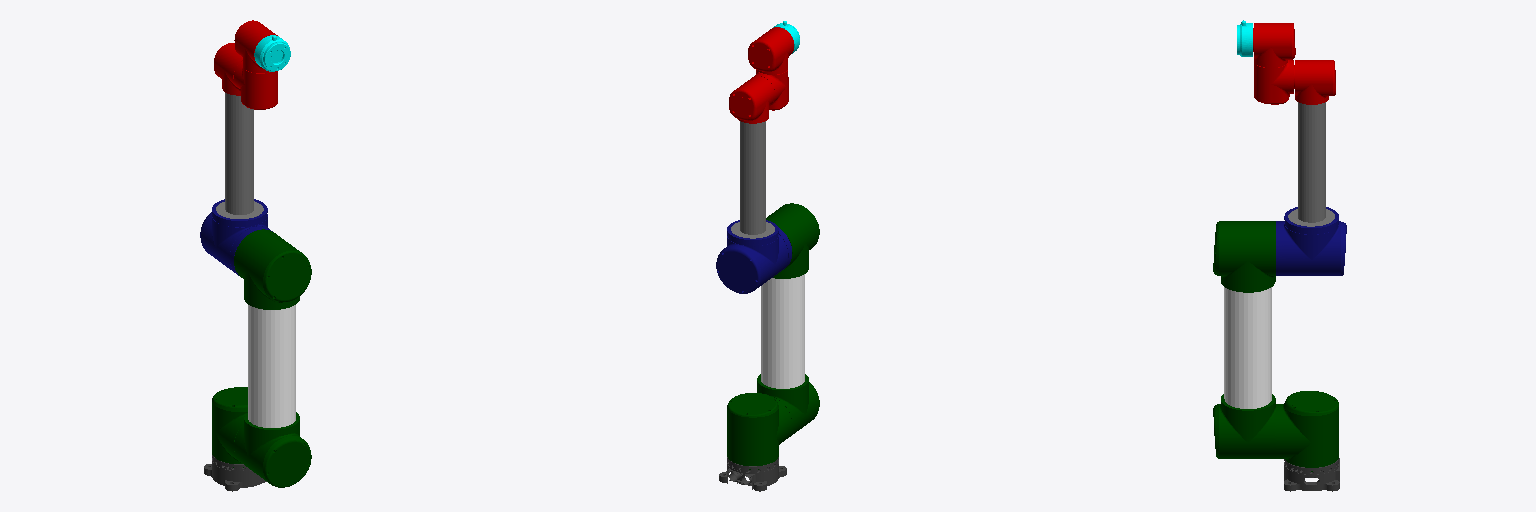
robot.urdf — Coint_5r2:
<?xml version="1.0"?>
<robot name="Coint_5r2">

<link name="world"/>

<joint name="fix_to_world" type="fixed">
    <parent link="world"/>
    <child link="base_link"/>
    <origin xyz="0 0 0" rpy="0 0 0"/>
</joint>


  <link name="base_link">
    <visual>
      <origin xyz="0 0 0" rpy="0 0 0" />
      <geometry>
       <mesh filename="package://robot_description/meshes/e110T_Base.stl" scale="0.001 0.001 0.001" />
      </geometry>
      <material name="green">
        <color rgba="0.3 0.3 0.3 1" />
      </material>
    </visual>
    <collision>
      <origin xyz="0 0 0" rpy="0 0 0" />
      <geometry>
       <mesh filename="package://robot_description/meshes/e110T_Base.stl" scale="0.001 0.001 0.001" />
      </geometry>
    </collision>
    <inertial>
        <origin xyz="0 0 0" rpy="0 0 0"/>
        <mass value="1.0"/> <inertia 
            ixx="0.01" ixy="0.0" ixz="0.0" 
            iyy="0.01" iyz="0.0" 
            izz="0.01"/>
    </inertial>
  </link>

  <joint name="joint_1" type="revolute">
    <parent link="base_link" />
    <child link="Joint1" />
    <origin xyz="0 0 0.1123" rpy="0 0 0" />
    <axis xyz="0 0 1" />
    <limit effort="100" velocity="1.0" lower="-3.14" upper="3.14" />
  </joint>

  <link name="Joint1">
    <visual>
      <origin xyz="0 0 0" rpy="0 0 0" />
      <geometry>
        <mesh filename="package://robot_description/meshes/e110T.stl" scale="0.001 0.001 0.001" />
      </geometry>
      <material name="green">
        <color rgba="0 0.3 0 1" />
      </material>
    </visual>
    <collision>
      <origin xyz="0 0 0" rpy="0 0 0" />
      <geometry>
        <mesh filename="package://robot_description/meshes/e110T.stl" scale="0.001 0.001 0.001" />
      </geometry>
    </collision>
    <inertial>
        <origin xyz="0 0 0" rpy="0 0 0"/>
        <mass value="1.0"/> <inertia 
            ixx="0.01" ixy="0.0" ixz="0.0" 
            iyy="0.01" iyz="0.0" 
            izz="0.01"/>
    </inertial>
  </link>

  <joint name="joint_2" type="revolute">
    <parent link="Joint1" />
    <child link="Joint2" />
    <origin xyz="0 -0.134 0" rpy="0 0 0" />
    <axis xyz="0 1 0" />
    <limit effort="100" velocity="1.0" lower="-3.14" upper="3.14" />
  </joint>

  <link name="Joint2">
    <visual>
       <origin xyz="0 0 0.425" rpy="1.57 0 0" />
      <geometry>
        <mesh filename="package://robot_description/meshes/e110T.stl" scale="0.001 0.001 0.001" />
      </geometry>
      <material name="green">
        <color rgba="0 0.3 0 1" />
      </material>
    </visual>
    <collision>
       <origin xyz="0 0 0.425" rpy="1.57 0 0" />
      <geometry>
        <mesh filename="package://robot_description/meshes/e110T.stl" scale="0.001 0.001 0.001" />
      </geometry>
    </collision>

    <visual>
      <origin xyz="0 0 0" rpy="-1.57 0 3.14" />
      <geometry>
        <mesh filename="package://robot_description/meshes/e110T.stl" scale="0.001 0.001 0.001" />
      </geometry>
      <material name="green">
        <color rgba="0 0.3 0 1" />
      </material>
    </visual>
    <collision>
      <origin xyz="0 0 0" rpy="-1.57 0 3.14" />
      <geometry>
        <mesh filename="package://robot_description/meshes/e110T.stl" scale="0.001 0.001 0.001" />
      </geometry>
    </collision>

    <visual>
       <origin xyz="0 0 0.2" rpy="0 0 0" />
      <geometry>
       <cylinder length="0.4" radius="0.05"/>
      </geometry>
      <material name="gray">
        <color rgba="1 1 1 1" />
      </material>
    </visual>
    <collision>
       <origin xyz="0 0 0.2" rpy="0 0 0" />
      <geometry>
       <cylinder length="0.4" radius="0.05"/>
      </geometry>
    </collision>
    <inertial>
        <origin xyz="0 0 0" rpy="0 0 0"/>
        <mass value="1.0"/> <inertia 
            ixx="0.01" ixy="0.0" ixz="0.0" 
            iyy="0.01" iyz="0.0" 
            izz="0.01"/>
    </inertial>
  </link>

  <joint name="joint_3" type="revolute">
    <parent link="Joint2" />
    <child link="Joint3" />
    <origin xyz="0 0.1345 0.425" rpy="0 0 0" />
    <axis xyz="0 1 0" />
    <limit effort="100" velocity="1.0" lower="-3.14" upper="3.14" />
  </joint>

  <link name="Joint3">
    <visual>
      <geometry>
        <mesh filename="package://robot_description/meshes/e110T_Bos.stl" scale="0.001 0.001 0.001" />
      </geometry>
      <origin xyz="0 0 0" rpy="1.57 0 3.14" />
      <material name="gray">
        <color rgba="0.1 0.1 0.5 1" />
      </material>
    </visual>
    <collision>
      <geometry>
        <mesh filename="package://robot_description/meshes/e110T_Bos.stl" scale="0.001 0.001 0.001" />
      </geometry>
      <origin xyz="0 0 0" rpy="1.57 0 3.14" />
    </collision>

    <visual>
      <geometry>
        <mesh filename="package://robot_description/meshes/e70T.stl" scale="0.001 0.001 0.001" />
      </geometry>
       <origin xyz="0 0 0.401" rpy="1.57 0 3.14" />
      <material name="red">
        <color rgba="0.8 0 0 1" />
      </material>
    </visual>
    <collision>
      <geometry>
        <mesh filename="package://robot_description/meshes/e70T.stl" scale="0.001 0.001 0.001" />
      </geometry>
       <origin xyz="0 0 0.401" rpy="1.57 0 3.14" />
    </collision>

    <visual>
       <origin xyz="0 0 0.2" rpy="0 0 0" />
      <geometry>
       <cylinder length="0.4" radius="0.03"/>
      </geometry>
      <material name="gray">
        <color rgba="0.5 .5 .5 1" />
      </material>
    </visual>
    <collision>
       <origin xyz="0 0 0.2" rpy="0 0 0" />
      <geometry>
       <cylinder length="0.4" radius="0.03"/>
      </geometry>
    </collision>

    <visual>
      <origin xyz="0 0 0.07" rpy="0 0 0" />
      <geometry>
        <cylinder length="0.01" radius="0.05"/>
      </geometry>
      <material name="gray">
        <color rgba="0.5 .5 .5 1" />
      </material>
    </visual>
    <collision>
      <origin xyz="0 0 0.07" rpy="0 0 0" />
      <geometry>
        <cylinder length="0.01" radius="0.05"/>
      </geometry>
    </collision>
    <inertial>
        <origin xyz="0 0 0" rpy="0 0 0"/>
        <mass value="1.0"/> <inertia 
            ixx="0.01" ixy="0.0" ixz="0.0" 
            iyy="0.01" iyz="0.0" 
            izz="0.01"/>
    </inertial>
  </link>

  <joint name="joint_4" type="revolute">
    <parent link="Joint3" />
    <child link="Joint4" />
    <origin xyz="0 -0.086 0.401" rpy="0 0 0" />
    <axis xyz="0 1 0" />
    <limit effort="100" velocity="1.0" lower="-3.14" upper="3.14" />
  </joint>

  <link name="Joint4">
    <visual>
      <geometry>
        <mesh filename="package://robot_description/meshes/e70T.stl" scale="0.001 0.001 0.001" />
      </geometry>
      <origin xyz="0 0 0" rpy="3.14 0 0" />
      <material name="red">
        <color rgba="0.8 0 0 1" />
      </material>
    </visual>
    <collision>
      <geometry>
        <mesh filename="package://robot_description/meshes/e70T.stl" scale="0.001 0.001 0.001" />
      </geometry>
      <origin xyz="0 0 0" rpy="3.14 0 0" />
    </collision>
        <inertial>
        <origin xyz="0 0 0" rpy="0 0 0"/>
        <mass value="1.0"/> <inertia 
            ixx="0.01" ixy="0.0" ixz="0.0" 
            iyy="0.01" iyz="0.0" 
            izz="0.01"/>
    </inertial>
  </link>

  <joint name="joint_5" type="revolute">
    <parent link="Joint4" />
    <child link="Joint5" />
    <origin xyz="0 0 0.086" rpy="0 0 0" />
    <axis xyz="0 0 1" />
    <limit effort="100" velocity="1.0" lower="-3.14" upper="3.14" />
  </joint>

  <link name="Joint5">
    <visual>
      <geometry>
        <mesh filename="package://robot_description/meshes/e70T.stl" scale="0.001 0.001 0.001" />
      </geometry>
      <origin xyz="0 0 0" rpy="1.57 0 3.14" />
      <material name="red">
        <color rgba="0.8 0 0 1" />
      </material>
    </visual>
    <collision>
      <geometry>
        <mesh filename="package://robot_description/meshes/e70T.stl" scale="0.001 0.001 0.001" />
      </geometry>
      <origin xyz="0 0 0" rpy="1.57 0 3.14" />
    </collision>
    <inertial>
        <origin xyz="0 0 0" rpy="0 0 0"/>
        <mass value="1.0"/> <inertia 
            ixx="0.01" ixy="0.0" ixz="0.0" 
            iyy="0.01" iyz="0.0" 
            izz="0.01"/>
    </inertial>
  </link>

  <joint name="joint_6" type="revolute">
    <parent link="Joint5" />
    <child link="Joint6" />
    <origin xyz="0 -0.0725 0" rpy="1.57 0 0" />
    <axis xyz="0 0 1" />
    <limit effort="100" velocity="1.0" lower="-6.28" upper="6.28" />
  </joint>

  <link name="Joint6">
    <visual>
      <geometry>
        <mesh filename="package://robot_description/meshes/e70T_Flans3.stl" scale="0.001 0.001 0.001" />
      </geometry>
      <origin xyz="0 0 0" rpy="0 0 0" />
      <material name="cyan">
        <color rgba="0 1 1 1" />
      </material>
    </visual>
    <collision>
      <geometry>
        <mesh filename="package://robot_description/meshes/e70T_Flans3.stl" scale="0.001 0.001 0.001" />
      </geometry>
      <origin xyz="0 0 0" rpy="0 0 0" />
    </collision>
    <inertial>
        <origin xyz="0 0 0" rpy="0 0 0"/>
        <mass value="1.0"/> <inertia 
            ixx="0.01" ixy="0.0" ixz="0.0" 
            iyy="0.01" iyz="0.0" 
            izz="0.01"/>
    </inertial>
  </link>

  <ros2_control name="FakeRobotSystem" type="system">
    <hardware>
      <plugin>mock_components/GenericSystem</plugin>
    </hardware>
    
    <joint name="joint_1">
      <command_interface name="position"/>
      <state_interface name="position"><param name="initial_value">0.0</param></state_interface>
      <state_interface name="velocity"/>
    </joint>

    <joint name="joint_2">
      <command_interface name="position"/>
      <state_interface name="position"><param name="initial_value">0.0</param></state_interface>
      <state_interface name="velocity"/>
    </joint>

    <joint name="joint_3">
      <command_interface name="position"/>
      <state_interface name="position"><param name="initial_value">0.0</param></state_interface>
      <state_interface name="velocity"/>
    </joint>

    <joint name="joint_4">
      <command_interface name="position"/>
      <state_interface name="position"><param name="initial_value">0.0</param></state_interface>
      <state_interface name="velocity"/>
    </joint>

    <joint name="joint_5">
      <command_interface name="position"/>
      <state_interface name="position"><param name="initial_value">0.0</param></state_interface>
      <state_interface name="velocity"/>
    </joint>

    <joint name="joint_6">
      <command_interface name="position"/>
      <state_interface name="position"><param name="initial_value">0.0</param></state_interface>
      <state_interface name="velocity"/>
    </joint>
  </ros2_control>
</robot>

--- Render facts (derived) ---
3 views of the same robot in one strip: view 1: azimuth 30°, elevation 25°; view 2: azimuth 150°, elevation 25°; view 3: azimuth 270°, elevation 25° (orthographic).
Model Coint_5r2 with 8 links and 7 joints (6 revolute, 1 fixed), rooted at world, posed every joint at zero.
Visible links, largest first — view 1: Joint2, Joint3, Joint1, Joint4, base_link, Joint5, Joint6; view 2: Joint2, Joint3, Joint1, Joint5, base_link, Joint4; view 3: Joint2, Joint3, Joint1, Joint5, Joint4, base_link, Joint6.
Boxes of the visible links, <box> form: Joint2: <box>234,229,311,487</box>; Joint3: <box>200,43,272,275</box>; Joint1: <box>212,387,247,467</box>; Joint4: <box>234,61,277,109</box>; base_link: <box>204,455,266,491</box>; Joint5: <box>234,20,277,72</box>; Joint6: <box>254,35,290,71</box>; Joint2: <box>757,203,819,438</box>; Joint3: <box>716,76,791,293</box>; Joint1: <box>727,393,791,469</box>; Joint5: <box>748,27,793,74</box>; base_link: <box>719,457,786,491</box>; Joint4: <box>754,70,788,110</box>; Joint2: <box>1213,221,1275,458</box>; Joint3: <box>1276,60,1346,275</box>; Joint1: <box>1276,391,1338,471</box>; Joint5: <box>1253,23,1295,67</box>; Joint4: <box>1254,60,1293,104</box>; base_link: <box>1284,458,1339,491</box>; Joint6: <box>1237,20,1252,56</box>.
Size in the robot's own frame: 0.1184 by 0.2815 by 1.07 metres.
Meshes: 5 distinct files referenced, 9 mesh visuals loaded (5 binary STL).